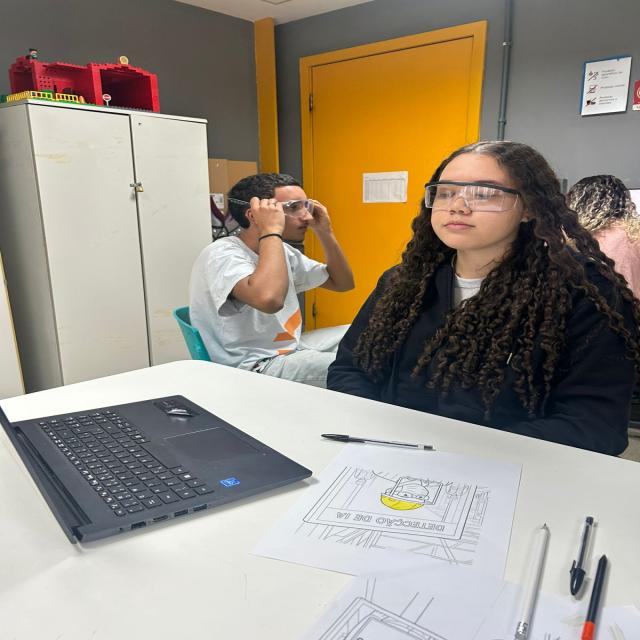oculos-epi: (422, 180, 522, 214), (284, 199, 316, 219)
